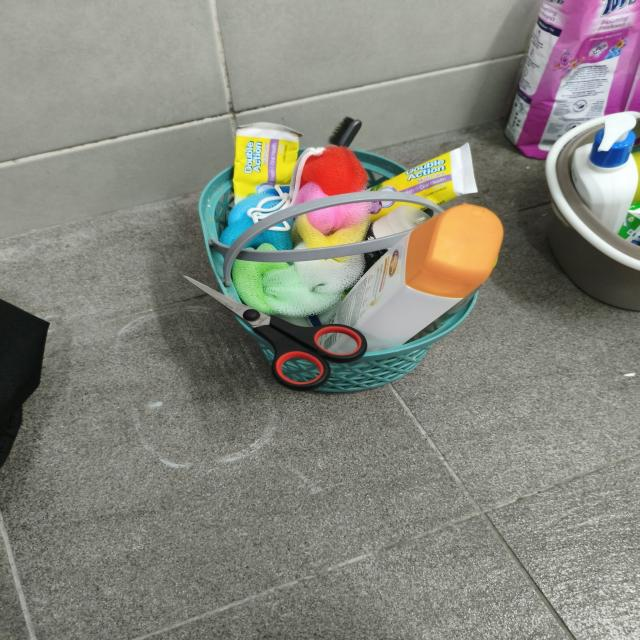scissor: (185, 276, 367, 391)
